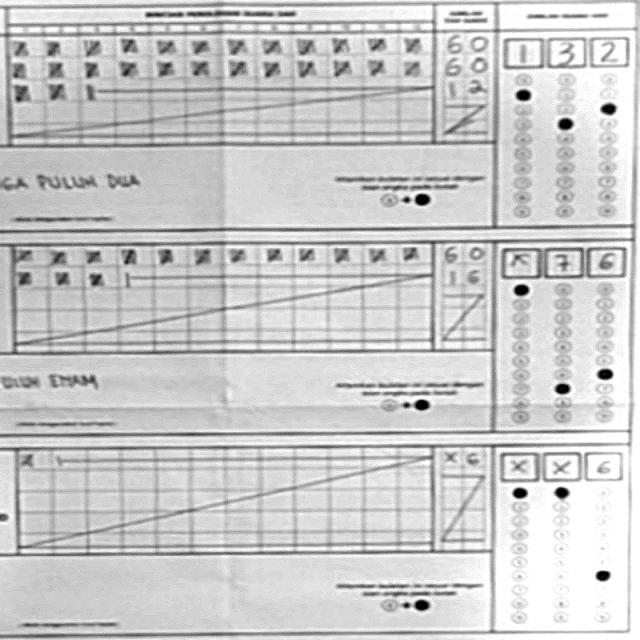Suara: (499, 34, 633, 70), (495, 244, 629, 280), (496, 449, 630, 485)
